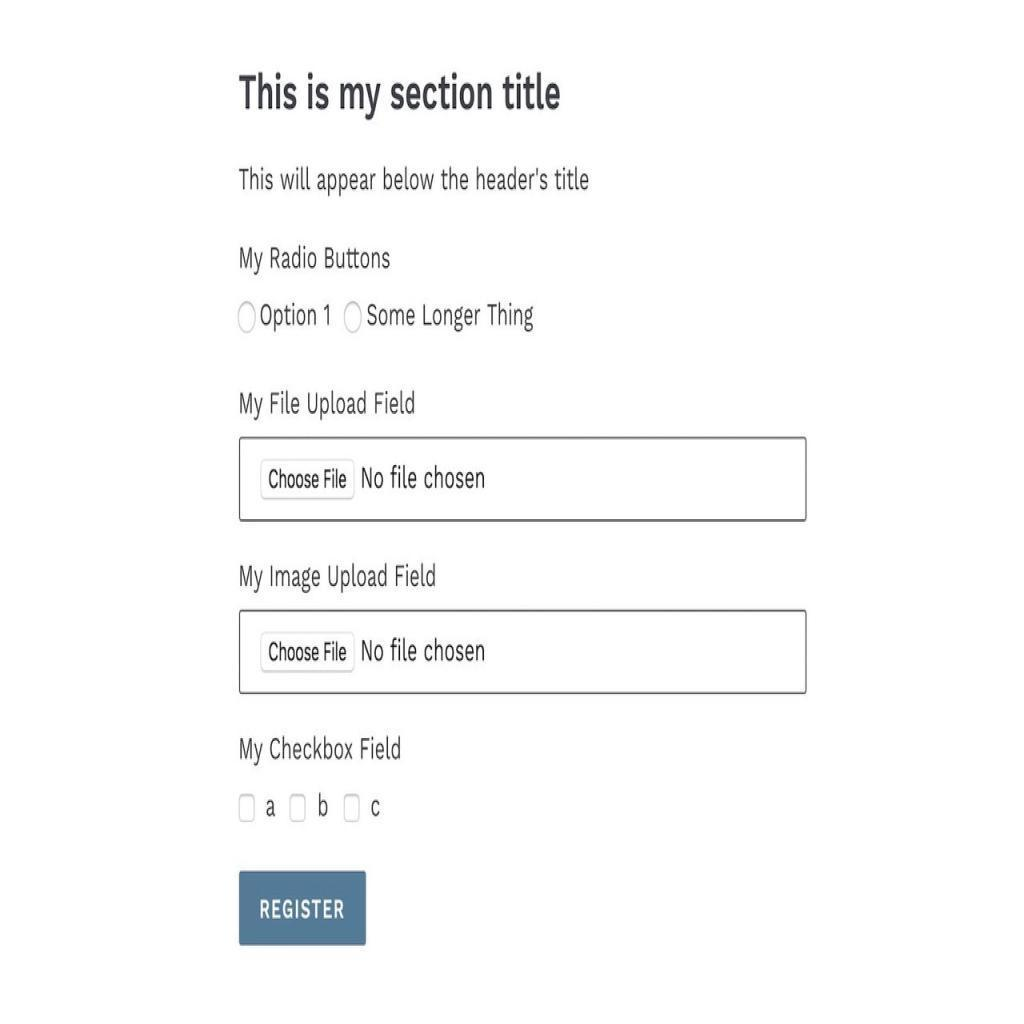button: (238, 871, 367, 947), (260, 463, 355, 501), (262, 633, 356, 670)
checkbox: (289, 793, 310, 822), (239, 795, 255, 820), (343, 796, 359, 821)
label: (234, 68, 567, 121), (234, 163, 595, 196), (239, 561, 441, 594), (369, 298, 539, 335), (234, 390, 423, 421), (238, 734, 408, 766), (237, 243, 400, 275), (258, 302, 333, 333)
radio: (235, 299, 258, 338), (344, 301, 365, 338)
